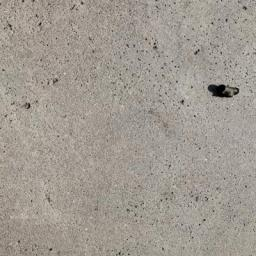FOD: (209, 83, 243, 101)
